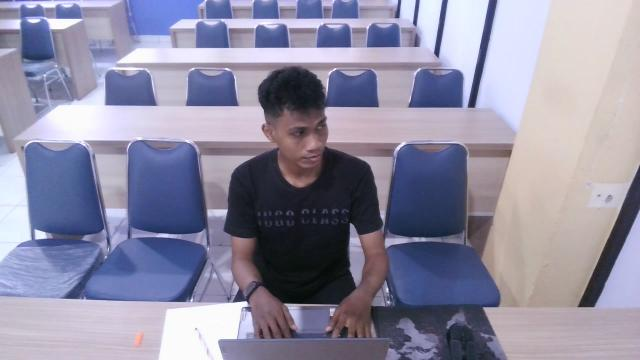Looking_Around: (216, 58, 389, 263)
